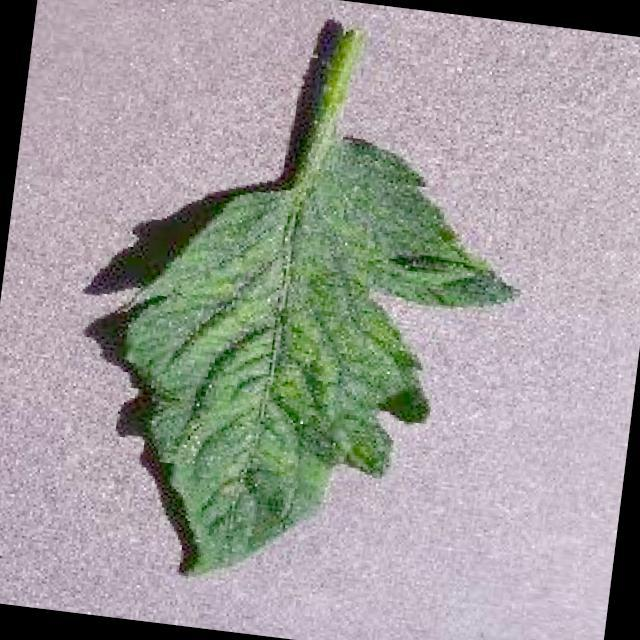Tomato mosaic virus leaf: (89, 109, 537, 608)
